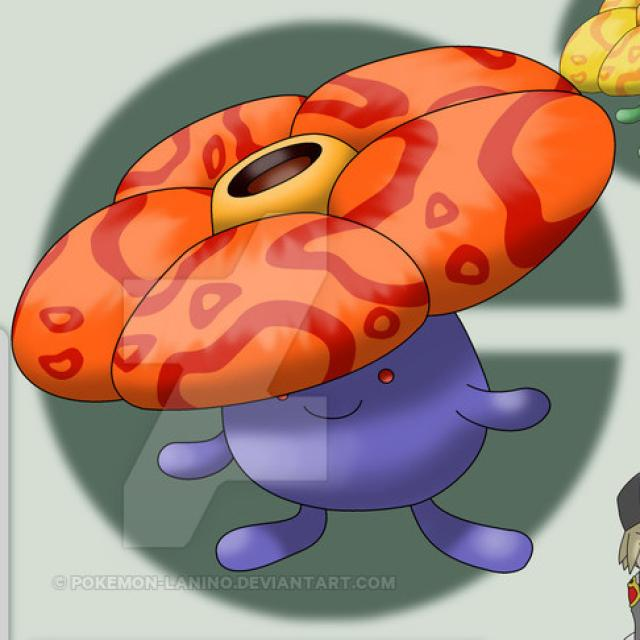Vileplume: (114, 123, 560, 582)
